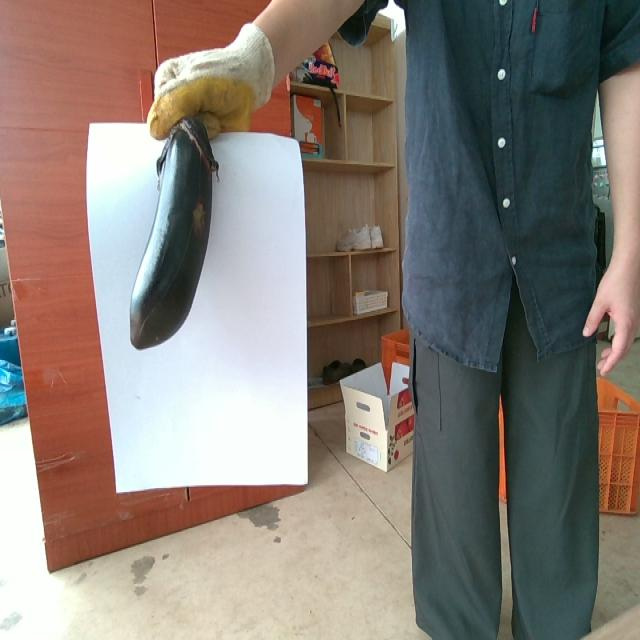Egg plant: (129, 117, 217, 348)
